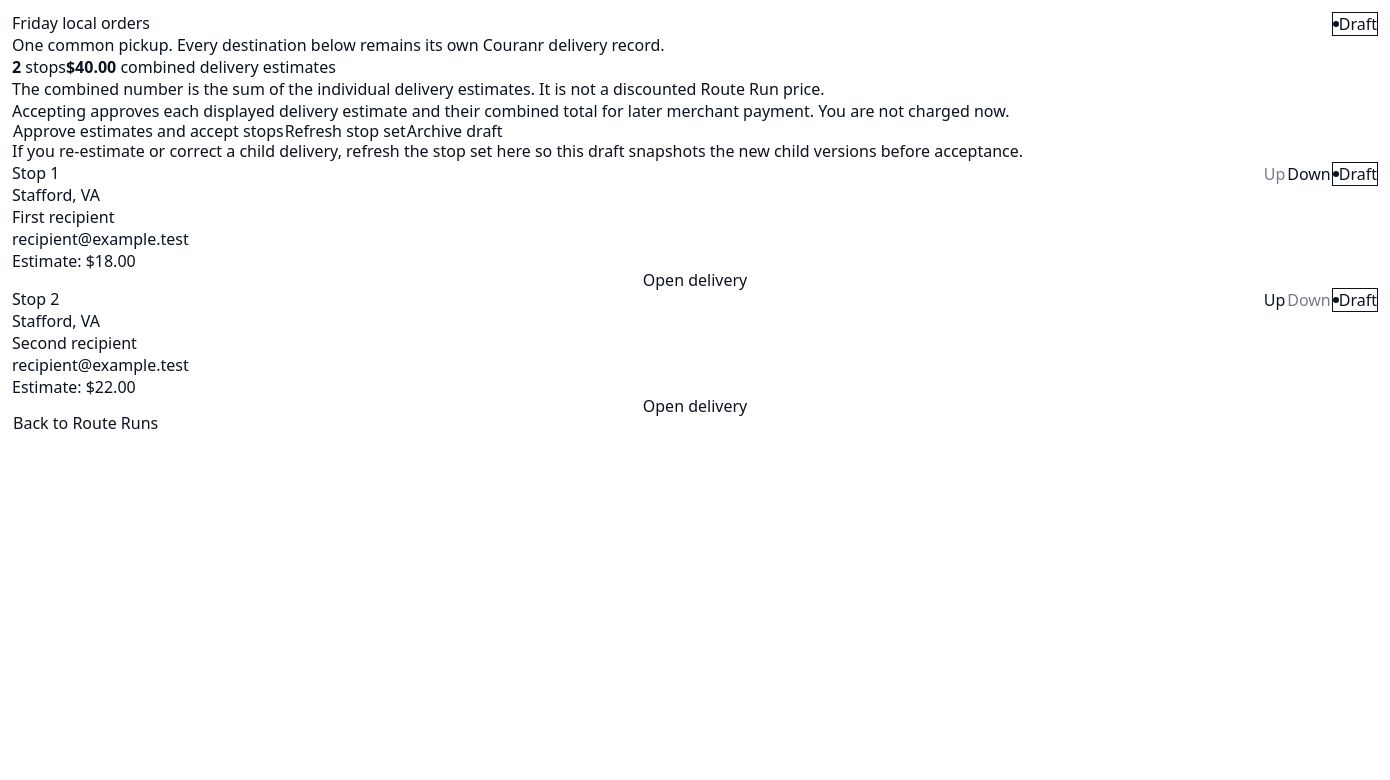
Test: RR-002 RouteRunDetail › blocks acceptance if a refreshed child quote cannot be loaded
Expected: the text "Estimate: $22.00" is shown, [12,376,136,398]
Click the button "Refresh stop set" at (345, 131), box [285,123,406,139]
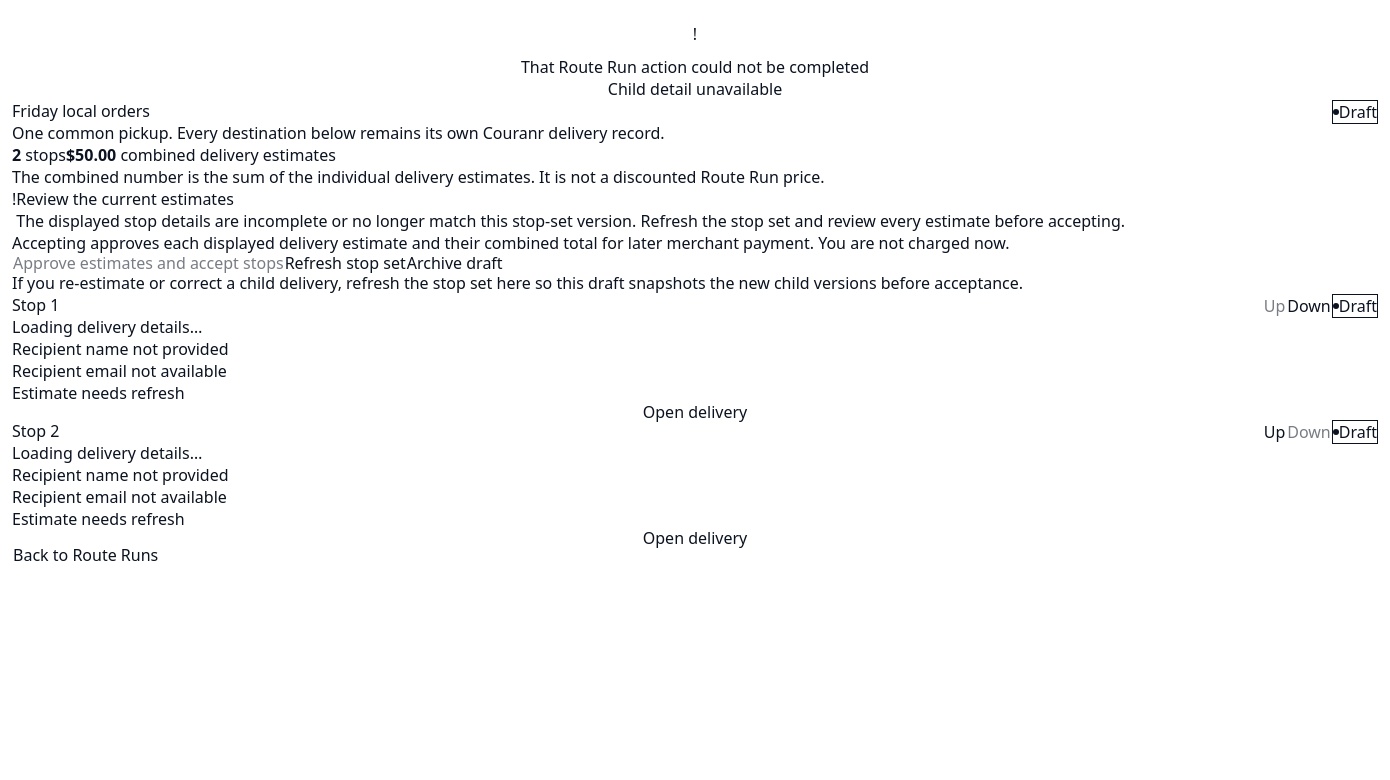
Expected: the text "Child detail unavailable" is shown, [608,78,782,100]
Expected: the text "Estimate: $22.00" is gone
Expected: the button "Approve estimates and accept stops" is disabled, [12,254,285,272]
